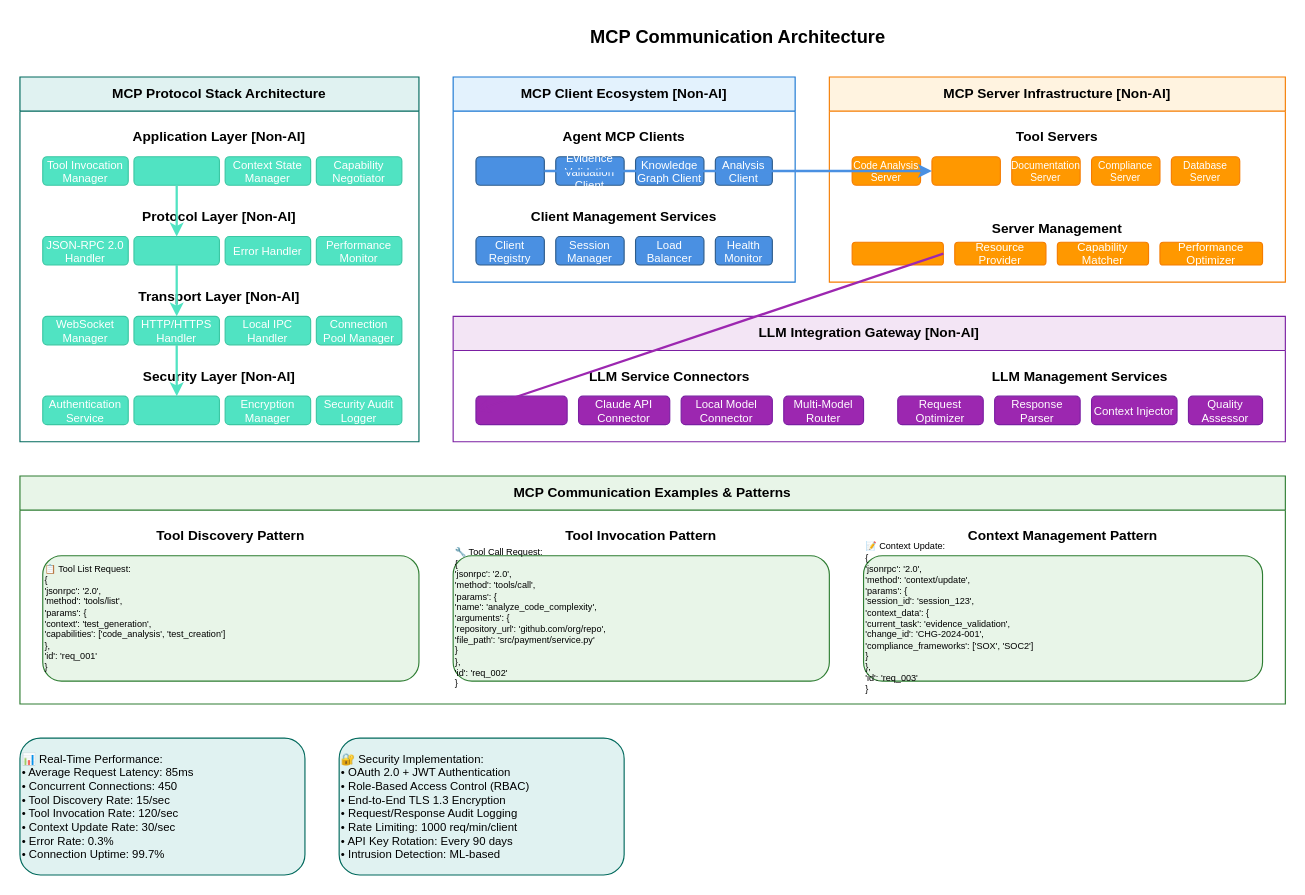
This 1305x895 diagram has some shape labels left out. The shapes that lost their labels are listed below. From the top down, each one's centre as x and y in pixels, then its label:
the point at 176,170: Resource Access Controller
the point at 509,170: Test Generation Client
the point at 965,170: Test Framework Server
the point at 176,250: Message Router
the point at 897,253: Tool Registry
the point at 176,410: Authorization Engine
the point at 521,410: OpenAI GPT-4 Connector
